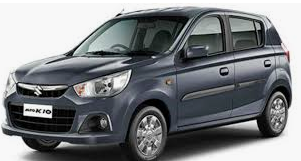car: (1, 6, 293, 160)
